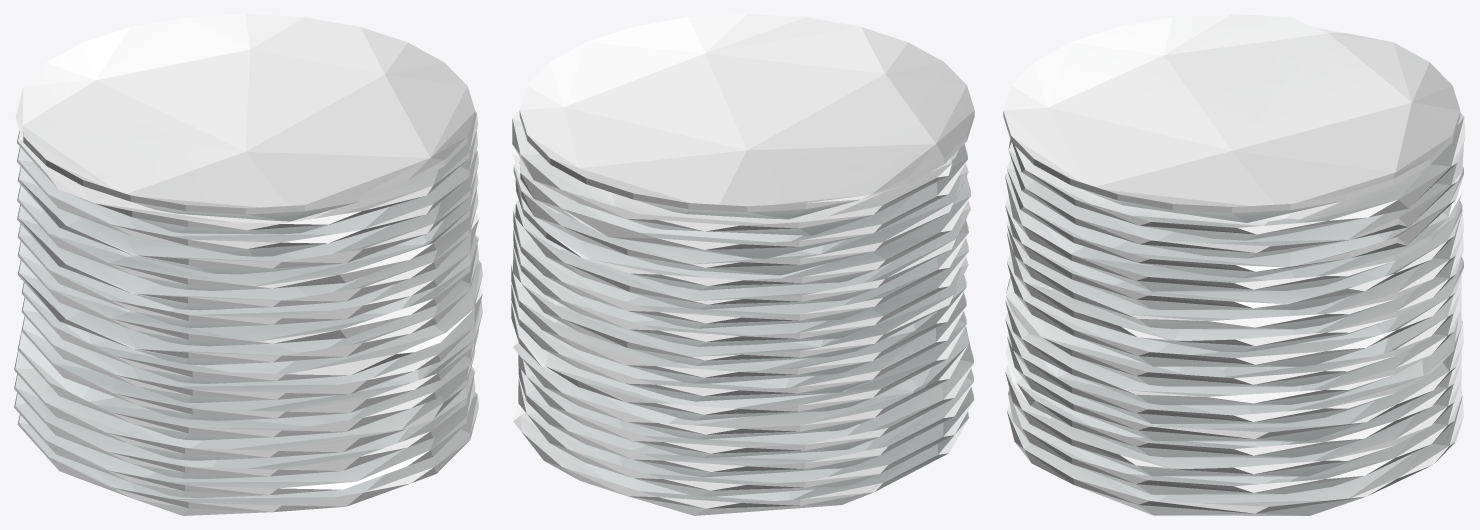
File: dish2_1.dae
3 views of the same model, side by side, from view 1: azimuth 30°, elevation 25°; view 2: azimuth 150°, elevation 25°; view 3: azimuth 270°, elevation 25° (orthographic).
Parts seen in each view (by area): view 1: node; view 2: node; view 3: node.
Boxes of the visible parts, x1,y1,x2,y2 form: node: (14,14,482,515); node: (511,14,974,515); node: (1003,14,1465,515).
Bounding box in the file's own units: 0.2729 × 0.2265 × 0.2701.
1 material, 1 textured.
